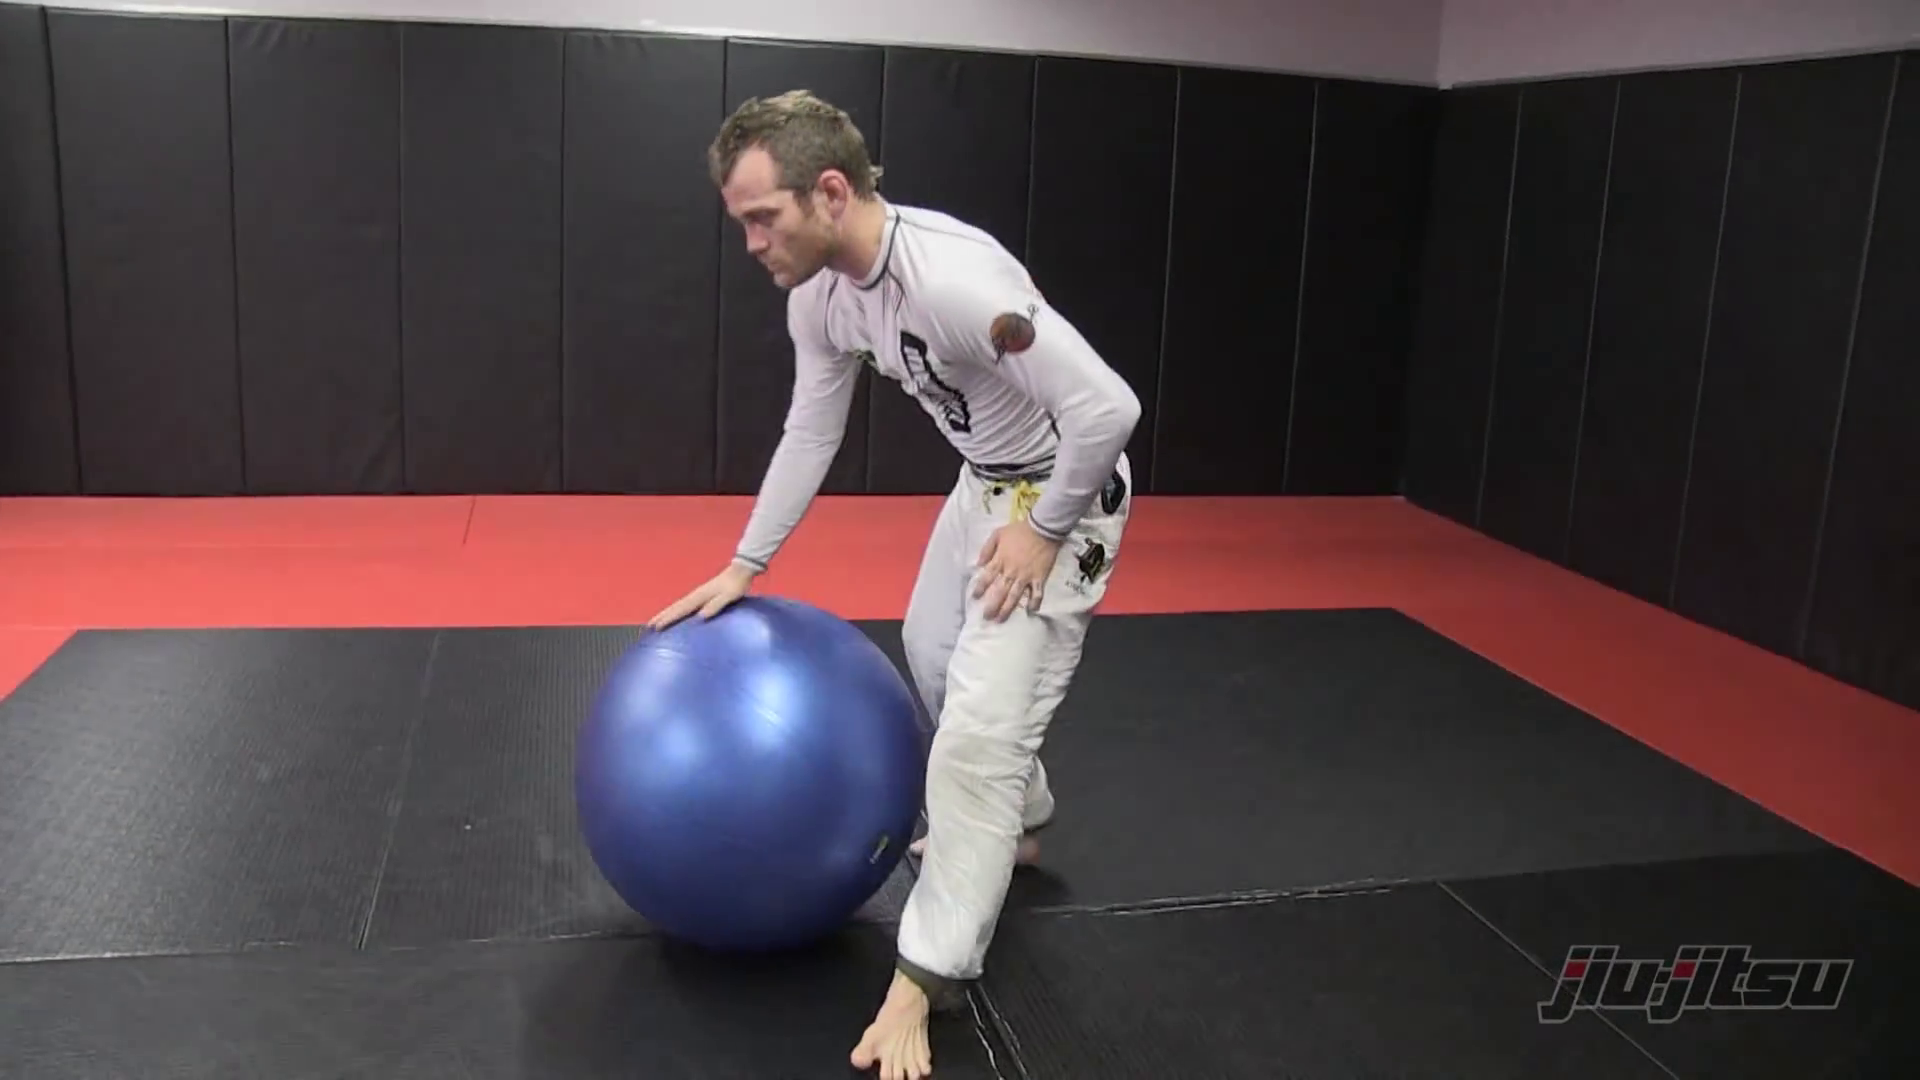yogaball: (576, 595, 934, 963)
